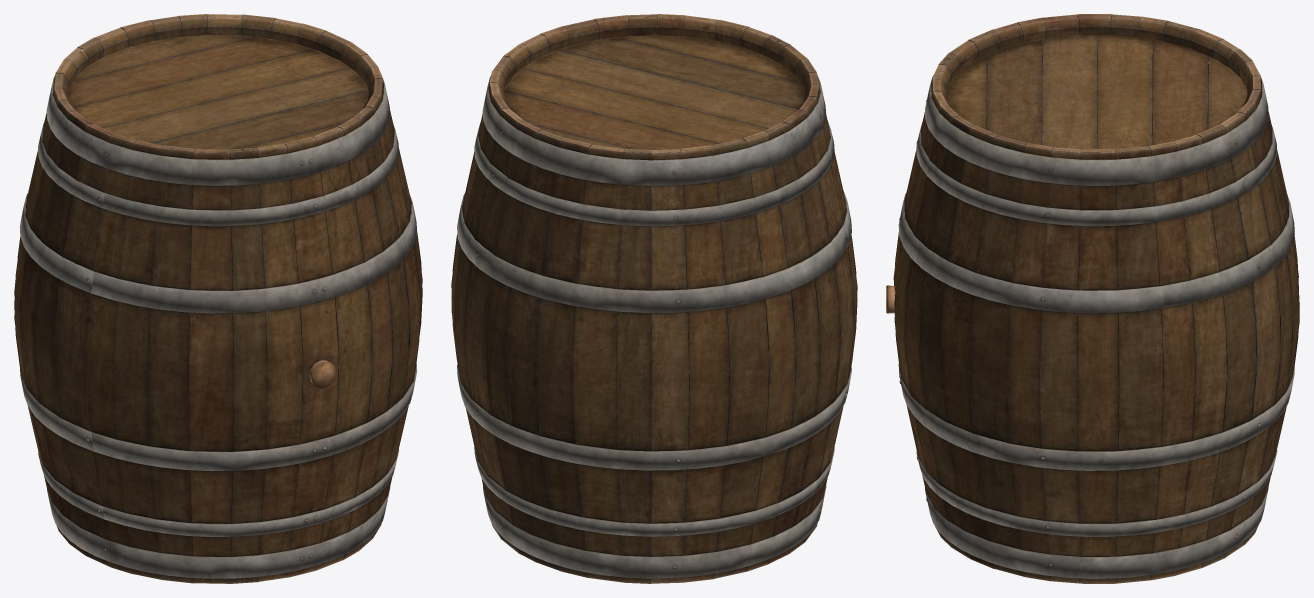
Rendered from wine_barrel_01_1k.gltf.
3 views of the same model, side by side, from view 1: azimuth 30°, elevation 25°; view 2: azimuth 150°, elevation 25°; view 3: azimuth 270°, elevation 25° (orthographic).
Visible parts, largest first — view 1: wine_barrel_01_Lid; view 2: wine_barrel_01_Lid; view 3: wine_barrel_01_Lid.
Boxes of the visible parts, x1,y1,x2,y2 form: wine_barrel_01_Lid: (14, 14, 422, 583); wine_barrel_01_Lid: (451, 14, 857, 583); wine_barrel_01_Lid: (886, 14, 1299, 583).
Size of the model in its own units: 0.7422 by 0.8713 by 0.756.
1 material, 1 textured.
